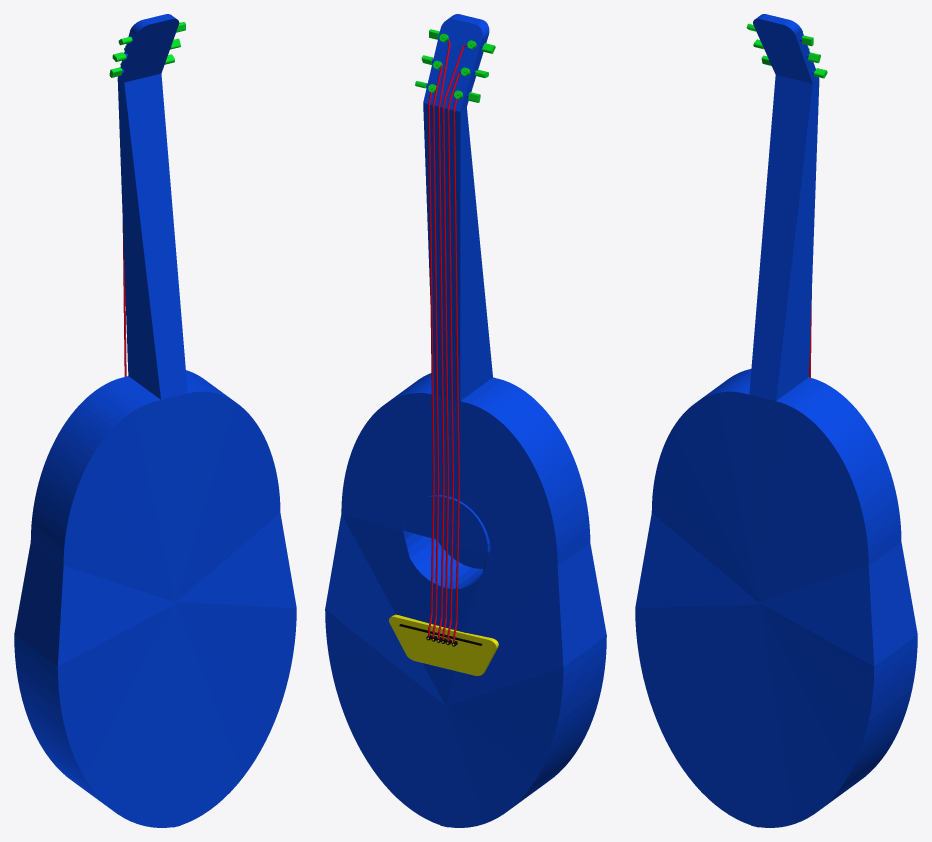
The model's file is Guitar.fbx.
The picture shows the model from 3 angles, left to right: view 1: azimuth 30°, elevation 25°; view 2: azimuth 150°, elevation 25°; view 3: azimuth 330°, elevation 25°; orthographic projection.
Parts seen in each view (by area): view 1: Cube; view 2: Cube; view 3: Cube.
Part boxes in pixels (x1,y1,x2,y2): Cube: (14,14,296,827); Cube: (325,14,606,827); Cube: (635,14,917,827).
Size of the model in its own units: 166 by 525 by 54.95.
